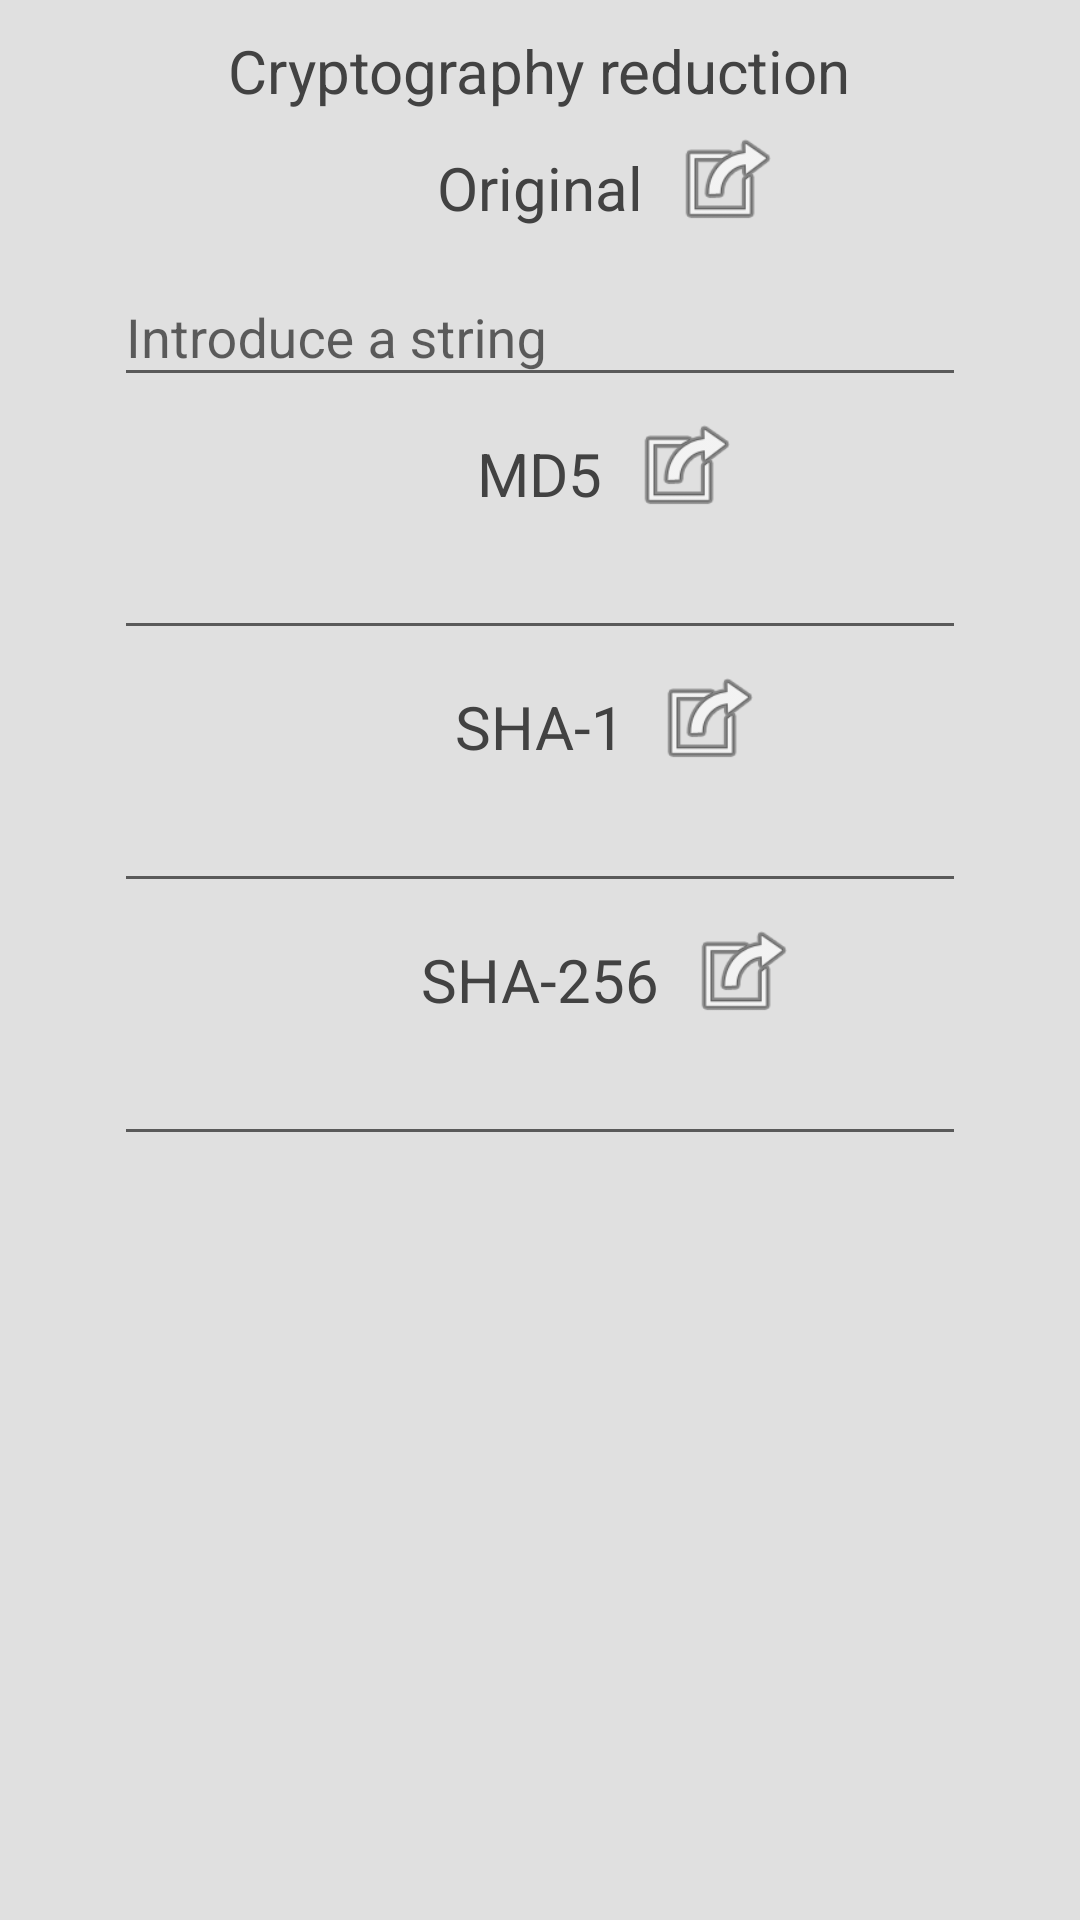

Named icons in this screenshot (1080w x 1920h) and their centers, point (x, y):
set as: point (728, 179), point (687, 465), point (710, 718), point (744, 971)
